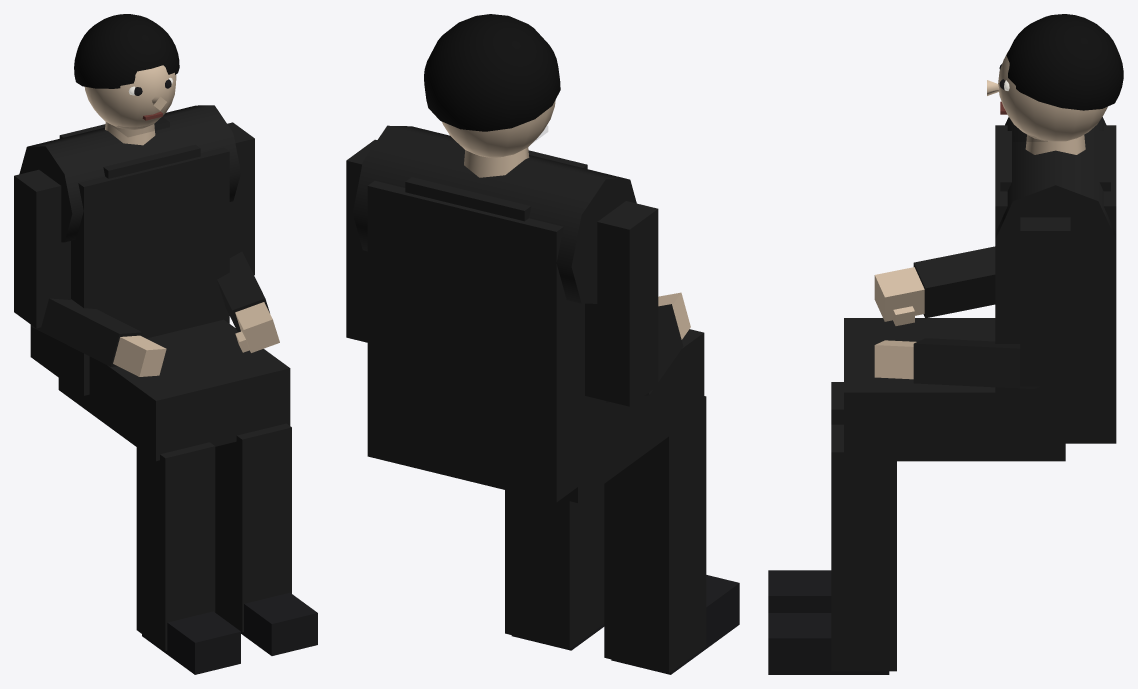
File: anomaly_extra.glb
3 views of the same model, side by side, from view 1: azimuth 30°, elevation 25°; view 2: azimuth 150°, elevation 25°; view 3: azimuth 270°, elevation 25° (orthographic). The views are drawn at different scales.
Parts seen in each view (by area): view 1: anomaly_extra, Head, Body_Skin, Head_Skin; view 2: anomaly_extra, Head, Head_Skin, Body_Skin; view 3: anomaly_extra, Head, Body_Skin, Head_Skin.
Part boxes in pixels (left/top/right/bottom): anomaly_extra: left=14, top=105, right=317, bottom=674; Head: left=74, top=14, right=179, bottom=136; Body_Skin: left=105, top=122, right=279, bottom=376; Head_Skin: left=84, top=65, right=176, bottom=129; anomaly_extra: left=346, top=125, right=739, bottom=674; Head: left=424, top=14, right=560, bottom=138; Head_Skin: left=442, top=100, right=555, bottom=157; Body_Skin: left=464, top=147, right=690, bottom=339; anomaly_extra: left=768, top=117, right=1116, bottom=674; Head: left=1000, top=14, right=1123, bottom=141; Body_Skin: left=874, top=134, right=1085, bottom=379; Head_Skin: left=987, top=51, right=1107, bottom=141.
Bounding box in the file's own units: 0.57 × 1.36 × 0.7048.
